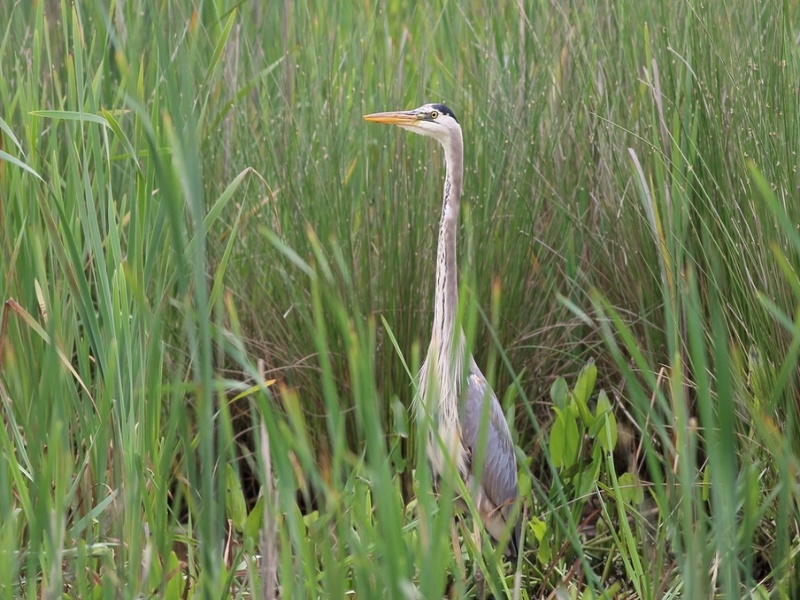heron: (360, 99, 528, 576)
